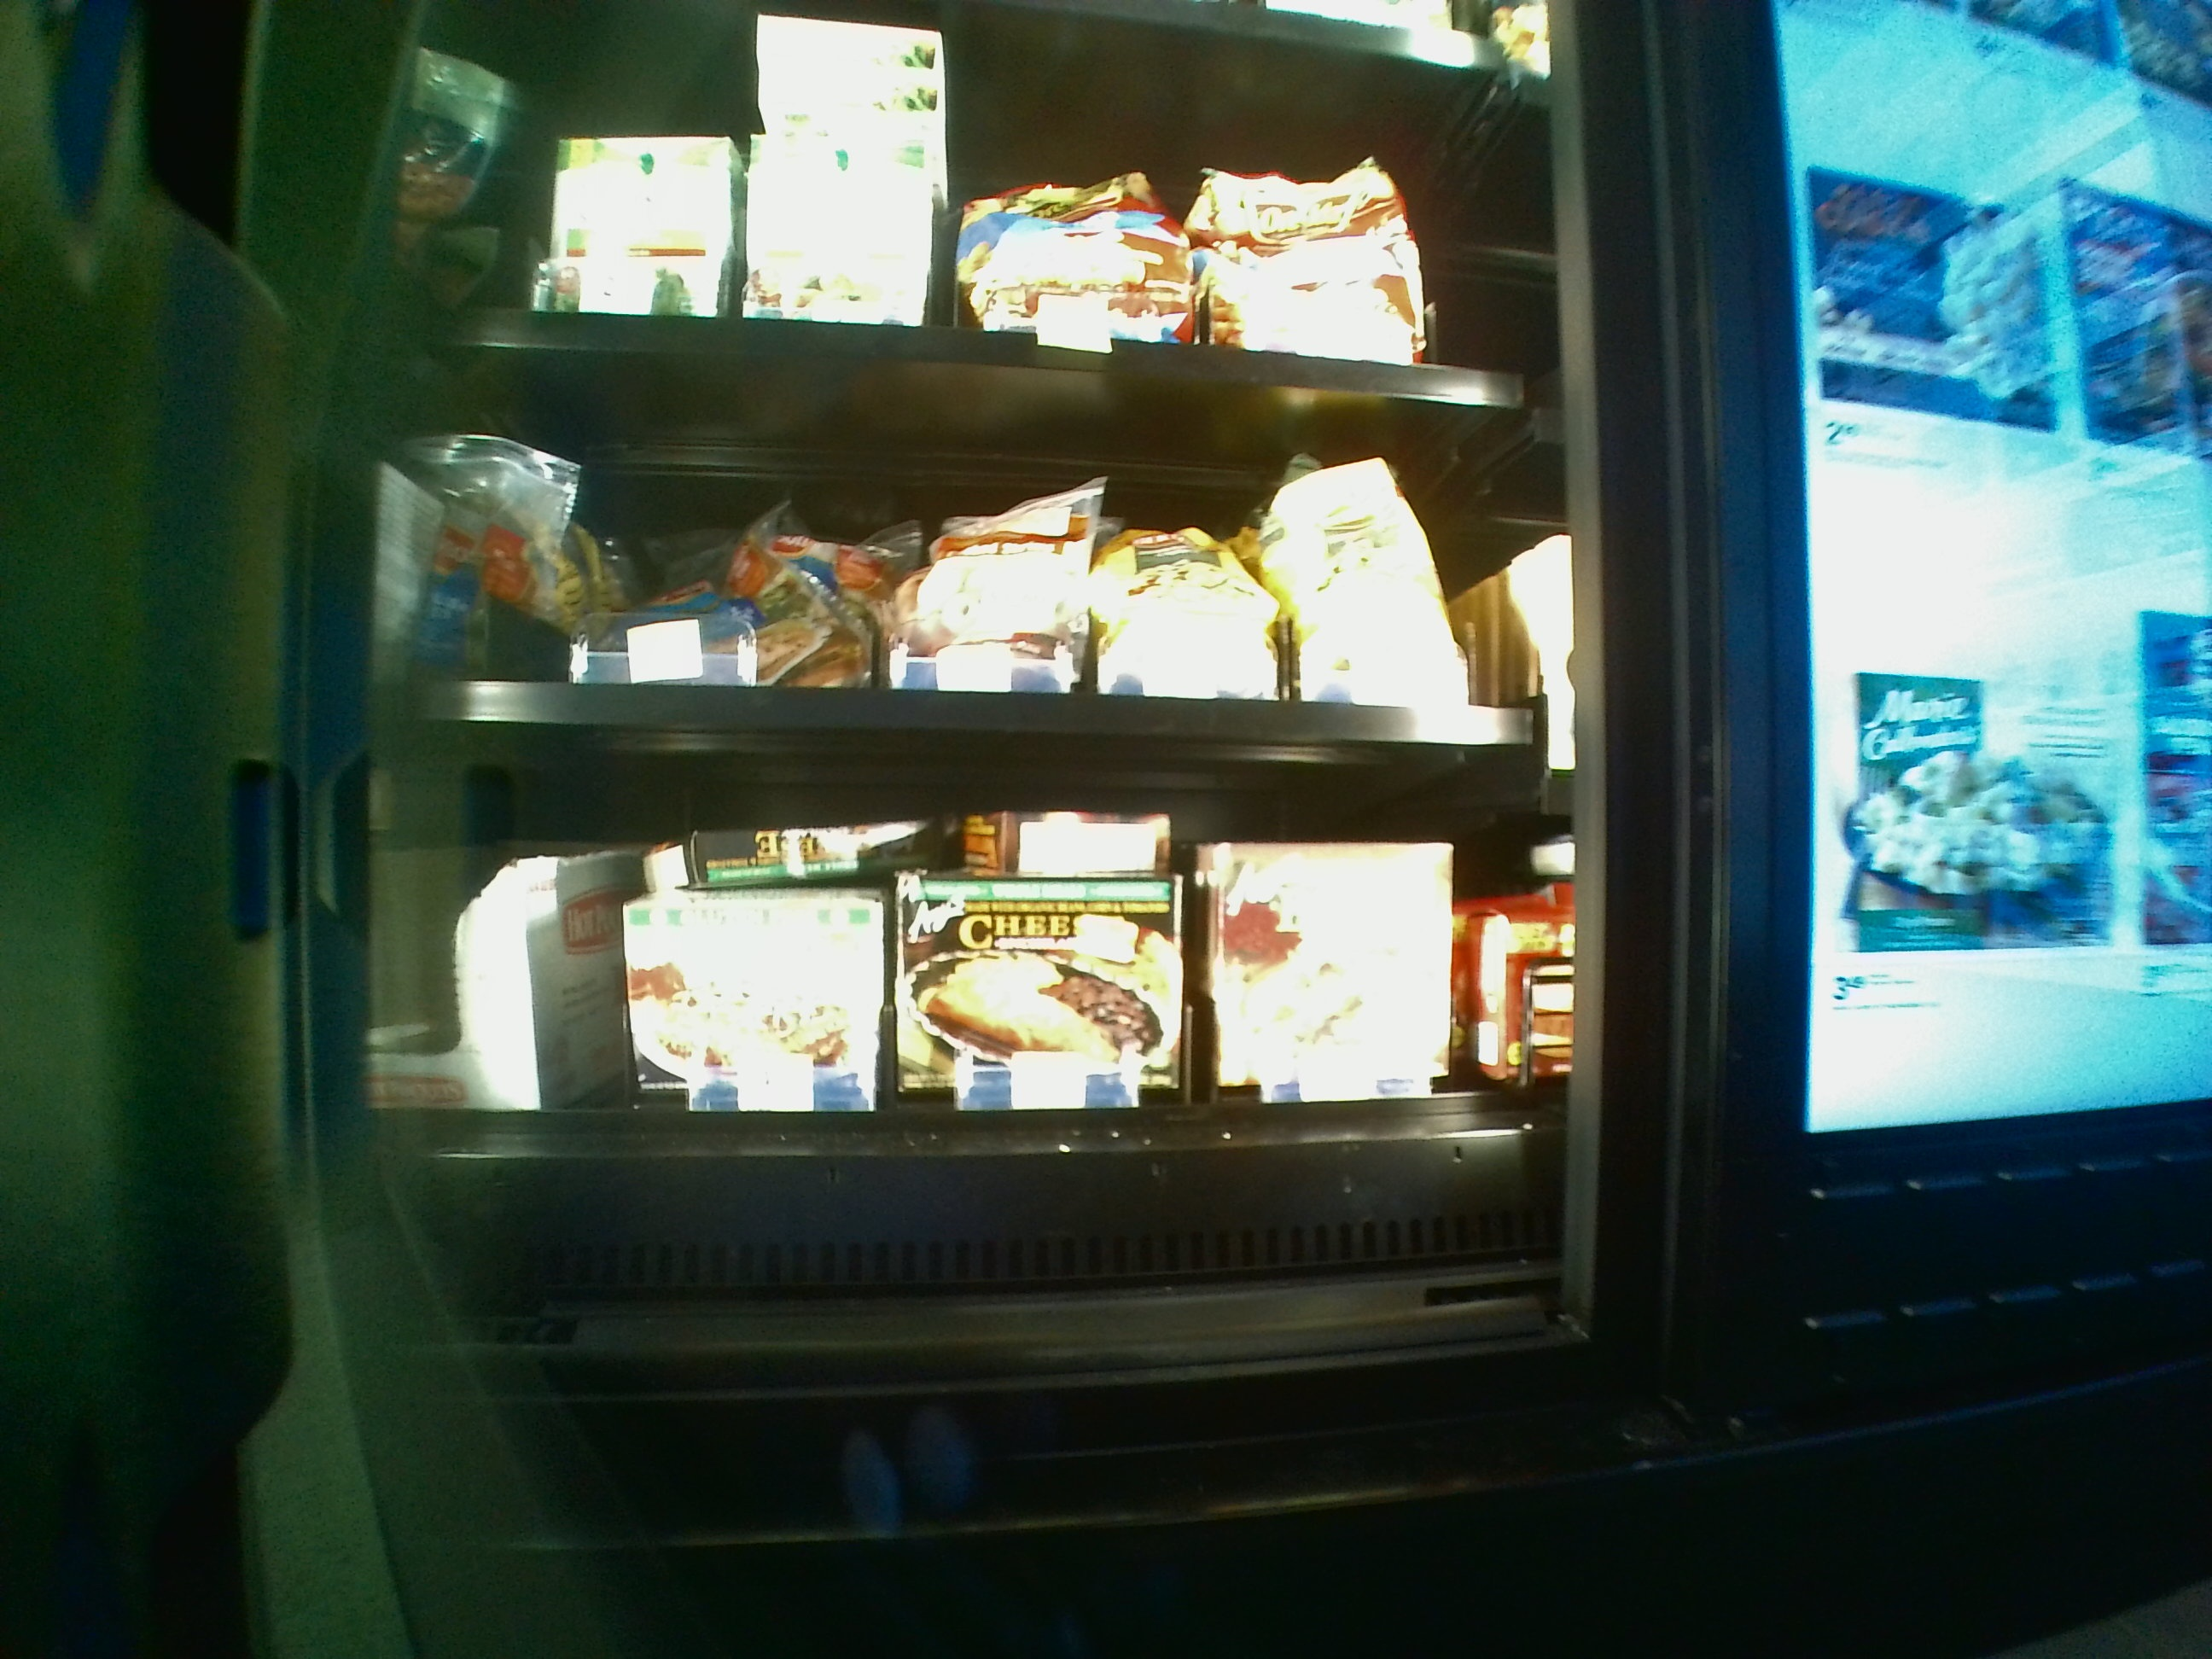shelf: (409, 742, 1554, 1326), (406, 345, 1541, 727)
